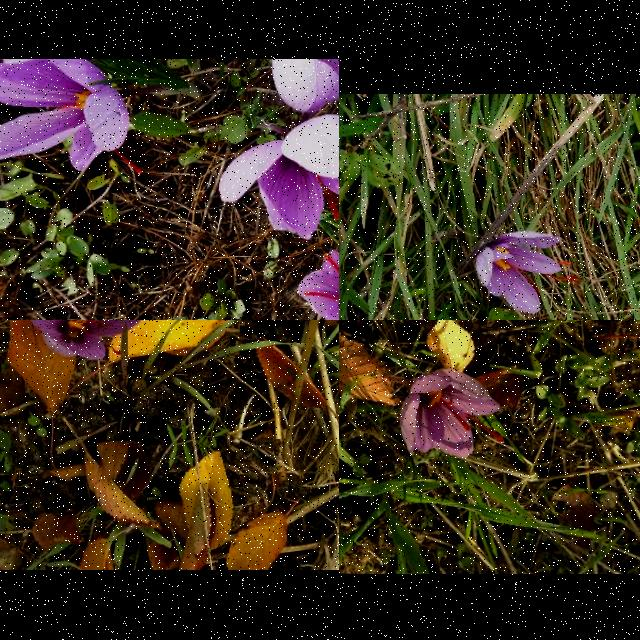flower: (0, 59, 143, 175), (218, 115, 339, 241), (399, 368, 505, 459), (476, 231, 582, 315), (26, 320, 144, 361), (272, 59, 339, 115), (296, 241, 339, 320)
